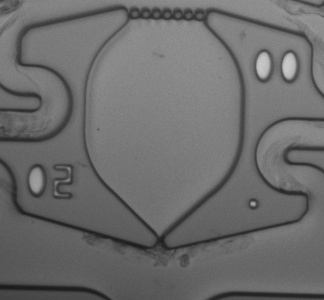AptNum: (248, 45, 310, 90)
Marker: (238, 191, 268, 218)
StNum: (20, 157, 82, 207)
